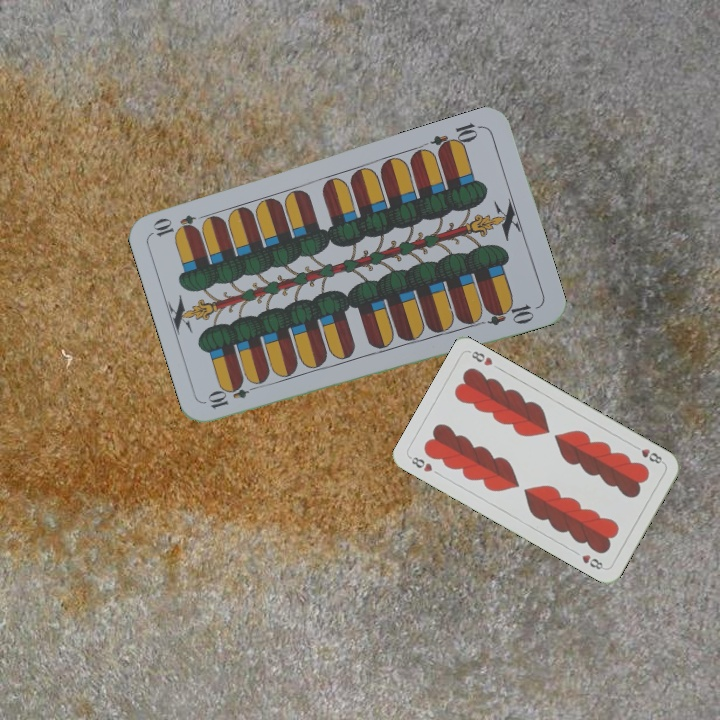E10: (427, 119, 485, 156), (204, 379, 262, 412)
H8: (629, 441, 667, 467), (406, 453, 435, 475)
